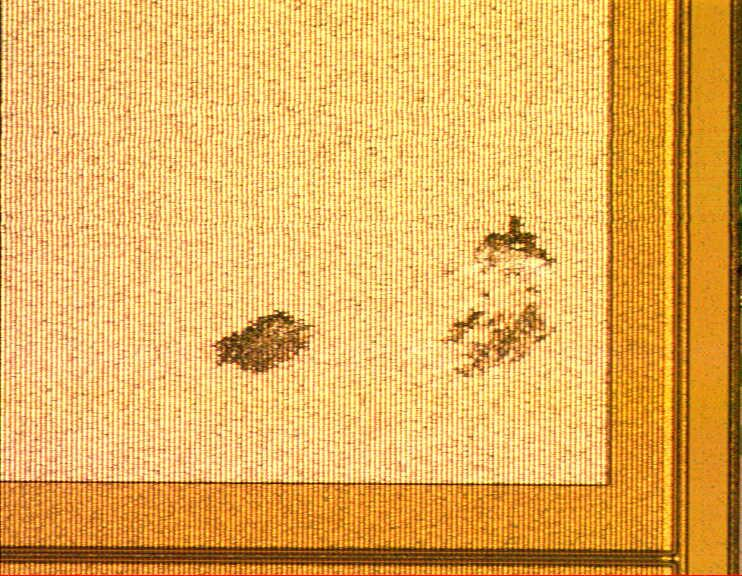SCRATCH: (194, 202, 565, 385)
